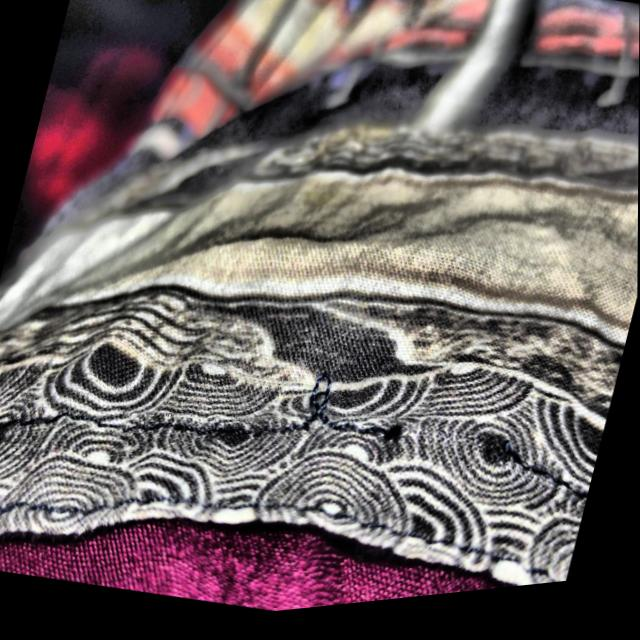Stitch: (228, 307, 395, 490), (363, 368, 555, 524)
